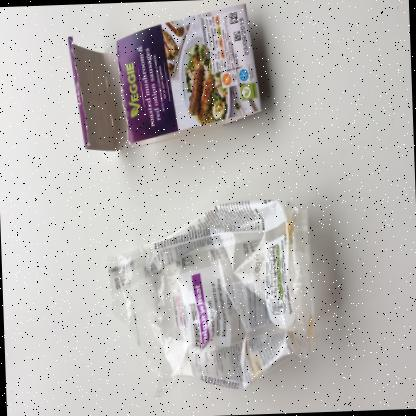Other carton: (67, 4, 262, 151)
Plastic film: (107, 199, 316, 398)
